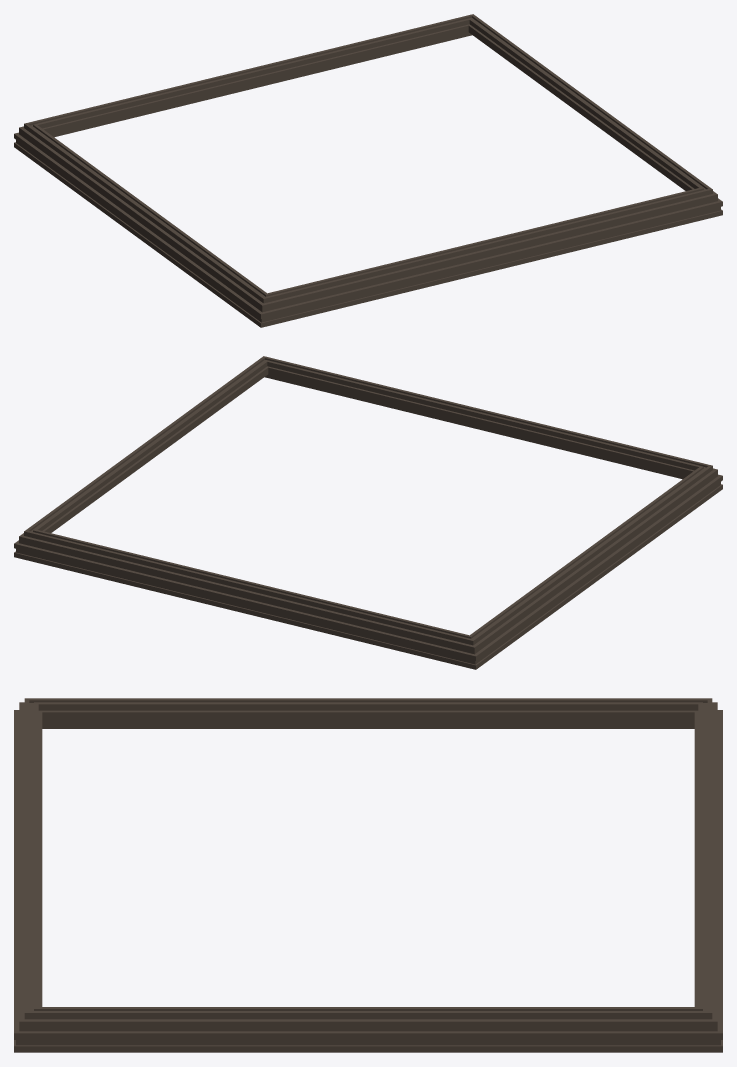
Rendered from map_boarder.fbx.
The picture shows the model from 3 angles, top to bottom: view 1: azimuth 30°, elevation 25°; view 2: azimuth 150°, elevation 25°; view 3: azimuth 270°, elevation 25°; orthographic projection. The views are drawn at different scales.
Visible parts, largest first — view 1: game_board_outer; view 2: game_board_outer; view 3: game_board_outer.
Boxes of the visible parts, bbox=[...] form: game_board_outer: bbox=[14, 14, 722, 327]; game_board_outer: bbox=[14, 356, 722, 669]; game_board_outer: bbox=[14, 698, 722, 1052].
Bounding box in the file's own units: 5400 × 275 × 5000.
